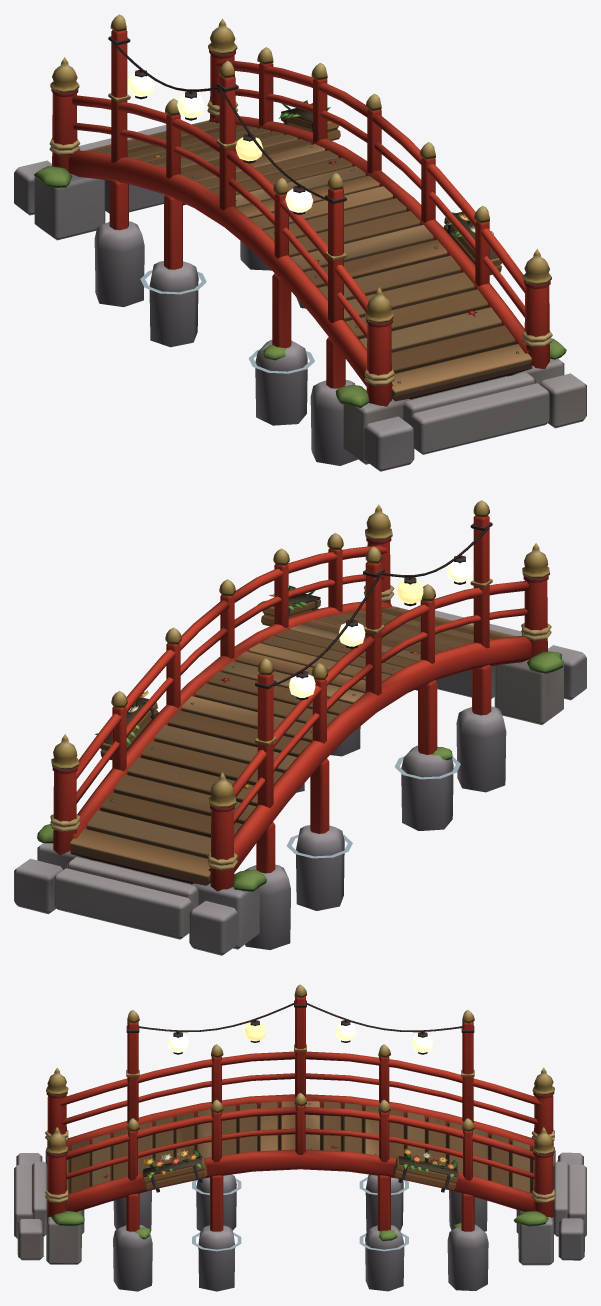
File: rg-maple-taikobashi.glb
The picture shows the model from 3 angles, top to bottom: view 1: azimuth 30°, elevation 25°; view 2: azimuth 150°, elevation 25°; view 3: azimuth 270°, elevation 25°; orthographic projection. The views are drawn at different scales.
Parts seen in each view (by area): view 1: body, glow; view 2: body, glow; view 3: body, glow, leaf.
Part boxes in pixels (box(x1,y1,x2,y2)): body: box(14, 14, 586, 471); glow: box(127, 73, 313, 212); body: box(14, 500, 586, 955); glow: box(289, 559, 472, 697); body: box(14, 984, 586, 1291); glow: box(167, 1022, 433, 1052); leaf: box(143, 1148, 457, 1178).
Size of the model in its own units: 3.01 by 4.05 by 8.62.
